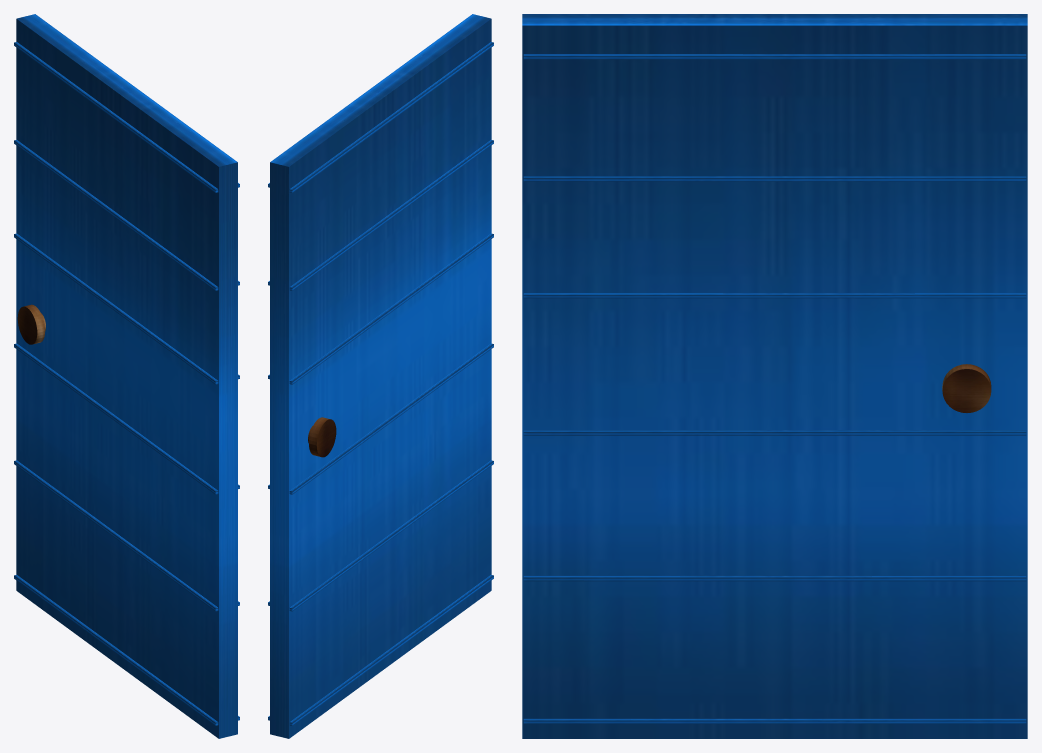
The model's file is door_2.glb.
3 renders of one model, left to right at view 1: azimuth 30°, elevation 25°; view 2: azimuth 150°, elevation 25°; view 3: azimuth 270°, elevation 25°, orthographic. The views are drawn at different scales.
Parts seen in each view (by area): view 1: Cube, Cube.001, Cylinder; view 2: Cube, Cube.001, Cylinder; view 3: Cube, Cube.001, Cylinder.
Part boxes in pixels (box(x1,y1,x2,y2)): Cube: box(16, 14, 237, 738); Cube.001: box(14, 42, 239, 725); Cylinder: box(17, 304, 45, 344); Cube: box(270, 14, 491, 738); Cube.001: box(268, 42, 493, 725); Cylinder: box(308, 417, 336, 457); Cube: box(522, 14, 1027, 738); Cube.001: box(523, 54, 1026, 723); Cylinder: box(942, 364, 991, 412).
Size of the model in its own units: 0.2473 by 2.9 by 1.86.
Materials: 3 (3 with a texture image).
